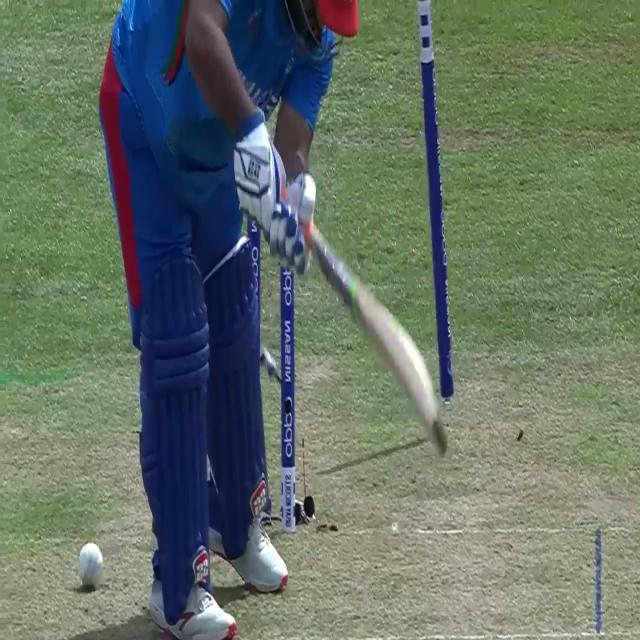ball: (77, 542, 103, 588)
